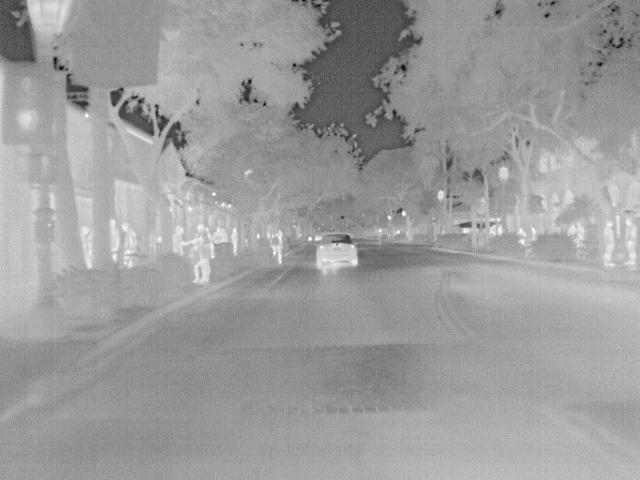car: (315, 233, 359, 269)
person: (191, 227, 214, 285), (601, 216, 621, 267), (170, 225, 197, 256), (622, 218, 639, 266), (120, 221, 136, 267), (80, 226, 96, 272), (270, 233, 285, 266), (228, 226, 240, 257)
